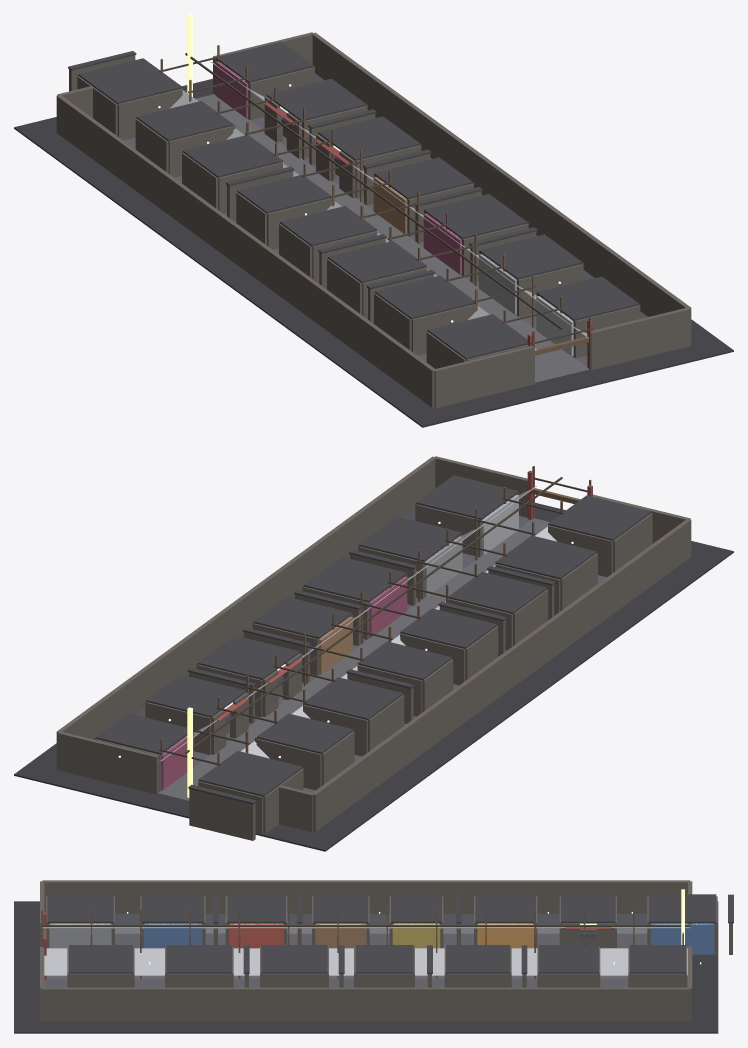
Rendered from prop_course_a.glb.
3 views of the same model, one above another, from view 1: azimuth 30°, elevation 25°; view 2: azimuth 150°, elevation 25°; view 3: azimuth 270°, elevation 25° (orthographic). The views are drawn at different scales.
Parts seen in each view (by area): view 1: course_a; view 2: course_a; view 3: course_a.
Part boxes in pixels (x1,y1,x2,y2): course_a: (14, 14, 733, 427); course_a: (14, 456, 733, 851); course_a: (14, 880, 733, 1033).
Size of the model in its own units: 44 by 12.2 by 102.
